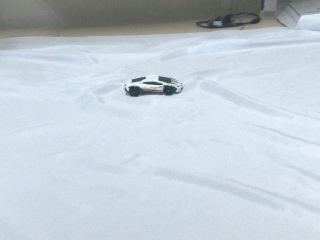toy_car: (124, 75, 183, 97)
